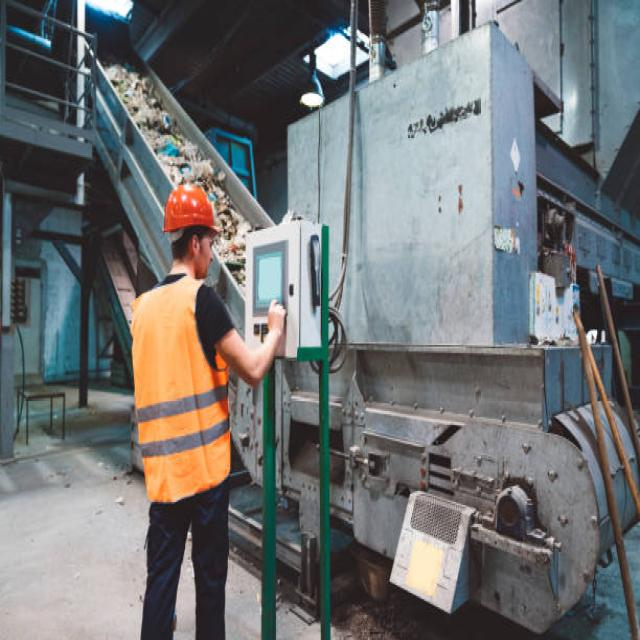plastic: (149, 107, 208, 180)
